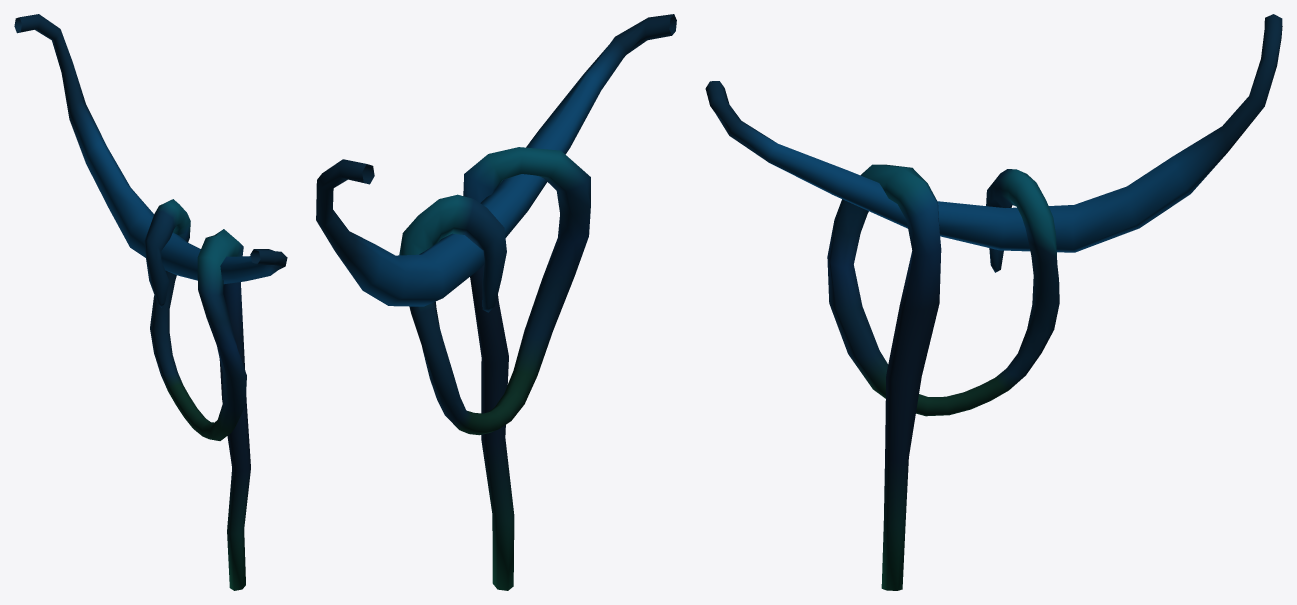
File: Alien_WallRoot02.fbx
The picture shows the model from 3 angles, left to right: view 1: azimuth 30°, elevation 25°; view 2: azimuth 150°, elevation 25°; view 3: azimuth 270°, elevation 25°; orthographic projection. The views are drawn at different scales.
Visible parts, largest first — view 1: Alien_WallRoot02; view 2: Alien_WallRoot02; view 3: Alien_WallRoot02.
Part boxes in pixels (left/top/right/bottom): Alien_WallRoot02: left=14, top=14, right=287, bottom=590; Alien_WallRoot02: left=316, top=14, right=676, bottom=590; Alien_WallRoot02: left=705, top=14, right=1282, bottom=590.
Size of the model in its own units: 859 by 4988 by 4784.
